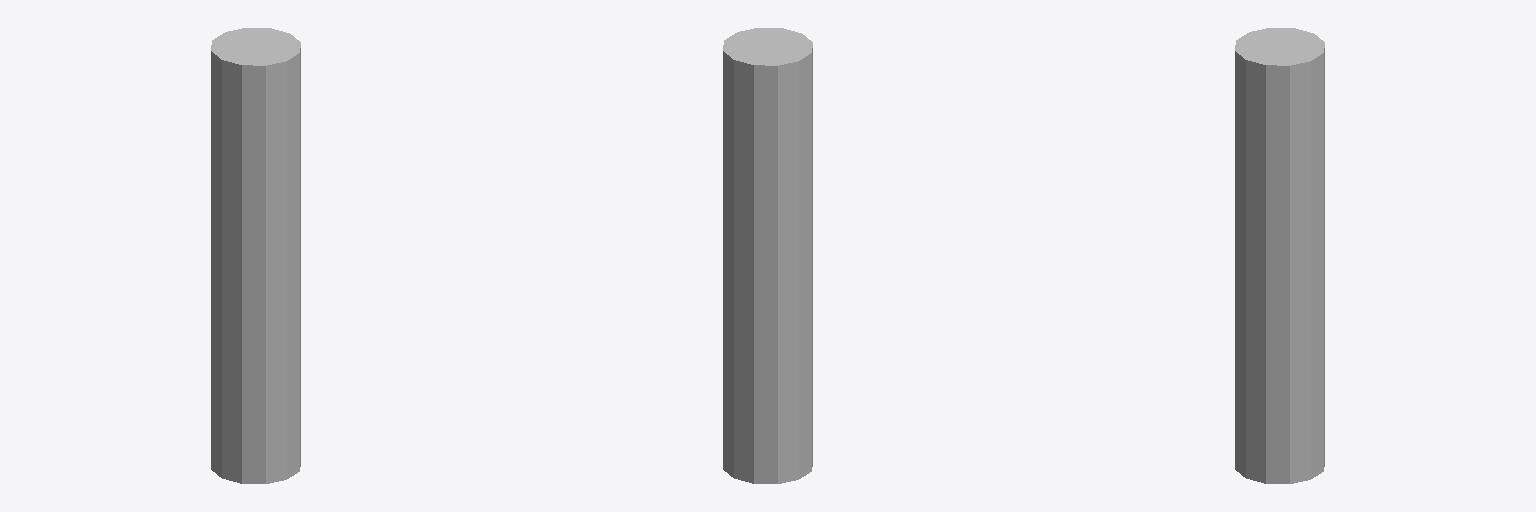
The model's file is casing.obj.
3 views of the same model, side by side, from view 1: azimuth 30°, elevation 25°; view 2: azimuth 150°, elevation 25°; view 3: azimuth 270°, elevation 25° (orthographic).
Parts seen in each view (by area): view 1: casing; view 2: casing; view 3: casing.
Part boxes in pixels (left/top/right/bottom): casing: left=211, top=28, right=300, bottom=483; casing: left=723, top=28, right=812, bottom=483; casing: left=1235, top=28, right=1324, bottom=483.
Size of the model in its own units: 0.0772 by 0.3947 by 0.0772.